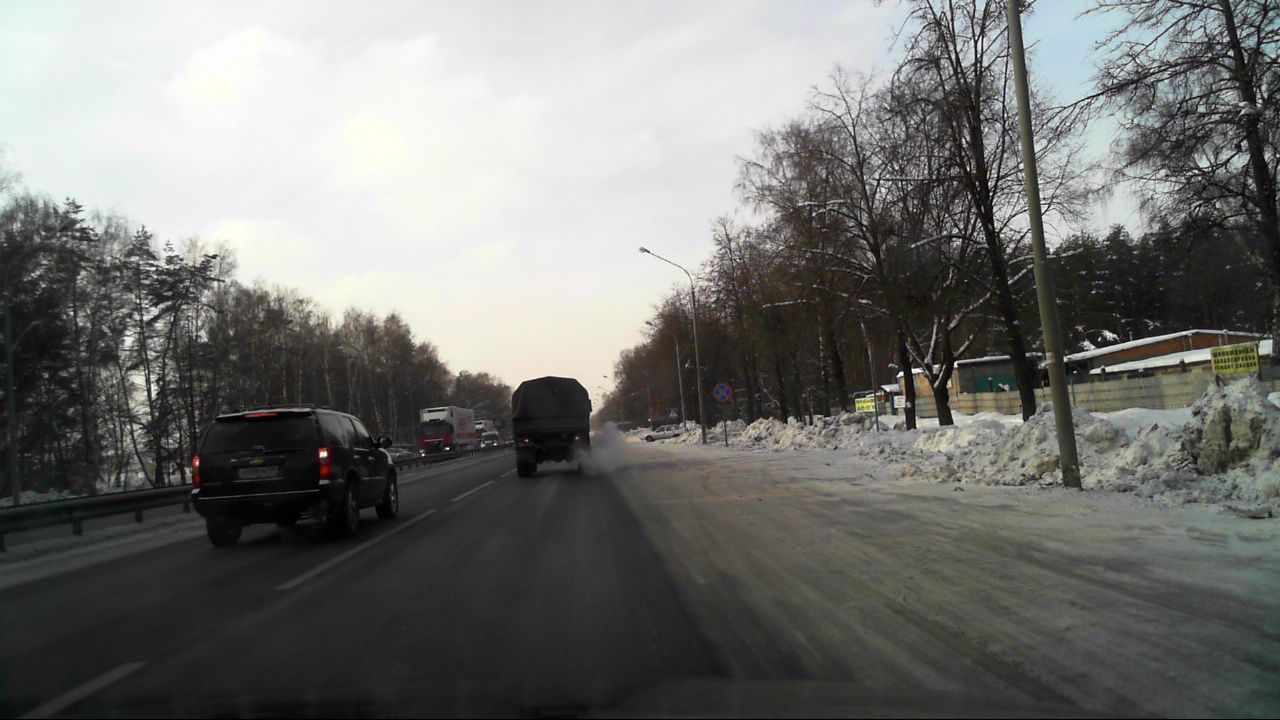No Parking: (712, 382, 731, 402)
